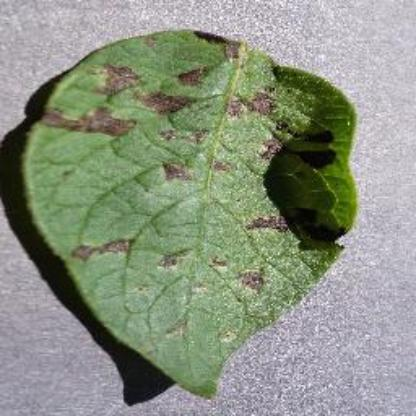Early-Blight: (22, 24, 368, 398)
